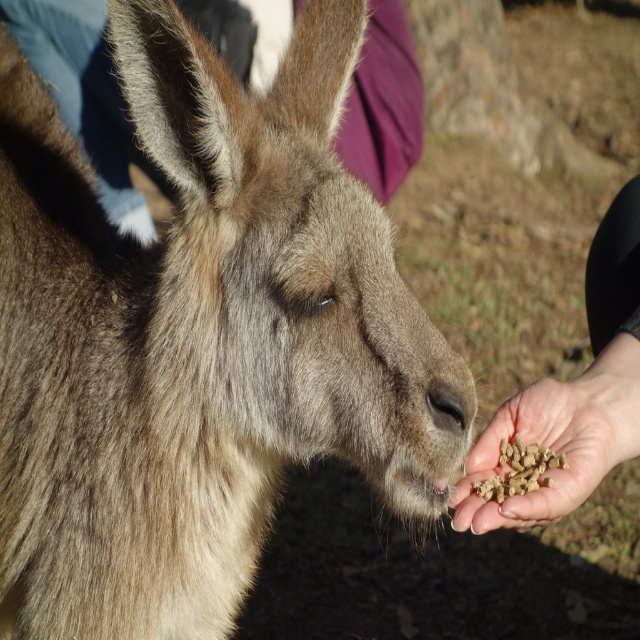Kangaroo: (0, 4, 481, 639)
